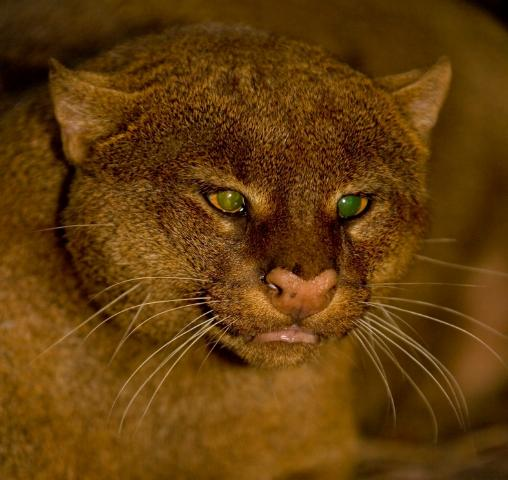Jaguarundi: (20, 20, 455, 433)
